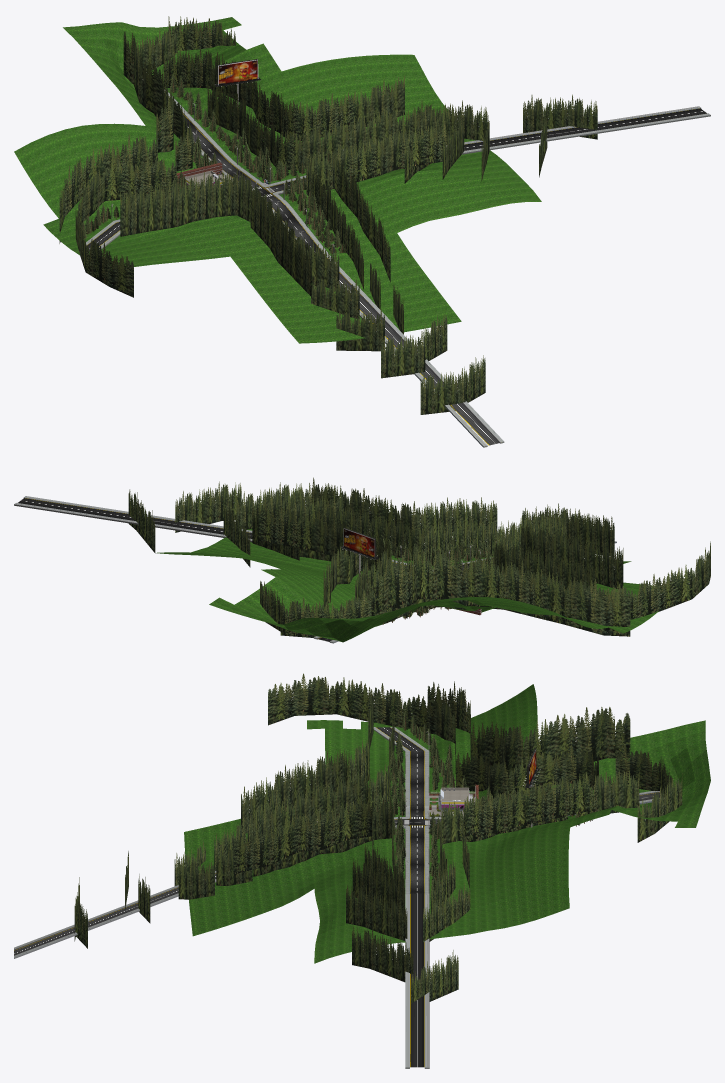
Rendered from tamboo.fbx.
The picture shows the model from 3 angles, top to bottom: view 1: azimuth 30°, elevation 25°; view 2: azimuth 150°, elevation 25°; view 3: azimuth 270°, elevation 25°; orthographic projection. The views are drawn at different scales.
Visible parts, largest first — view 1: global_ground, arbol_background.003, arbol_background.002, arbol_background.004, arbol_background.005, arbol_background, arbol_background.001, arbol_background.006, arbol_background.007, pista, veredaB, publicidad_monoposte; view 2: arbol_background.003, arbol_background.001, global_ground, arbol_background, arbol_background.007, arbol_background.004, arbol_background.006, arbol_background.005, arbol_background.002, veredaB, pista, publicidad_monoposte; view 3: global_ground, arbol_background.003, arbol_background, arbol_background.001, arbol_background.004, pista, arbol_background.007, arbol_background.002, arbol_background.006, veredaB, arbol_background.005.
Boxes of the visible parts, <box> form: global_ground: <box>14,17,541,343</box>; arbol_background.003: <box>306,94,597,402</box>; arbol_background.002: <box>163,16,397,170</box>; arbol_background.004: <box>127,172,465,414</box>; arbol_background.005: <box>120,168,311,296</box>; arbol_background: <box>75,29,192,297</box>; arbol_background.001: <box>59,31,173,243</box>; arbol_background.006: <box>215,52,404,140</box>; arbol_background.007: <box>333,120,446,282</box>; pista: <box>86,79,706,445</box>; veredaB: <box>86,72,710,447</box>; publicidad_monoposte: <box>218,60,257,84</box>; arbol_background.003: <box>128,481,579,567</box>; arbol_background.001: <box>375,547,630,636</box>; global_ground: <box>156,528,661,642</box>; arbol_background: <box>280,541,710,637</box>; arbol_background.007: <box>311,477,497,540</box>; arbol_background.004: <box>494,508,614,592</box>; arbol_background.006: <box>258,503,362,592</box>; arbol_background.005: <box>521,511,623,588</box>; arbol_background.002: <box>260,518,391,632</box>; veredaB: <box>14,496,616,643</box>; pista: <box>18,498,490,641</box>; publicidad_monoposte: <box>344,529,374,557</box>; global_ground: <box>184,684,710,963</box>; arbol_background.003: <box>75,797,470,1003</box>; arbol_background: <box>268,673,674,798</box>; arbol_background.001: <box>427,681,630,778</box>; arbol_background.004: <box>74,714,394,941</box>; pista: <box>14,727,661,1067</box>; arbol_background.007: <box>233,799,373,873</box>; arbol_background.002: <box>440,770,682,879</box>; arbol_background.006: <box>462,772,589,887</box>; veredaB: <box>14,727,660,1068</box>; arbol_background.005: <box>241,691,373,833</box>.
Size of the model in its own units: 49870 by 15834 by 45262.
Materials: 19 (19 with a texture image).
